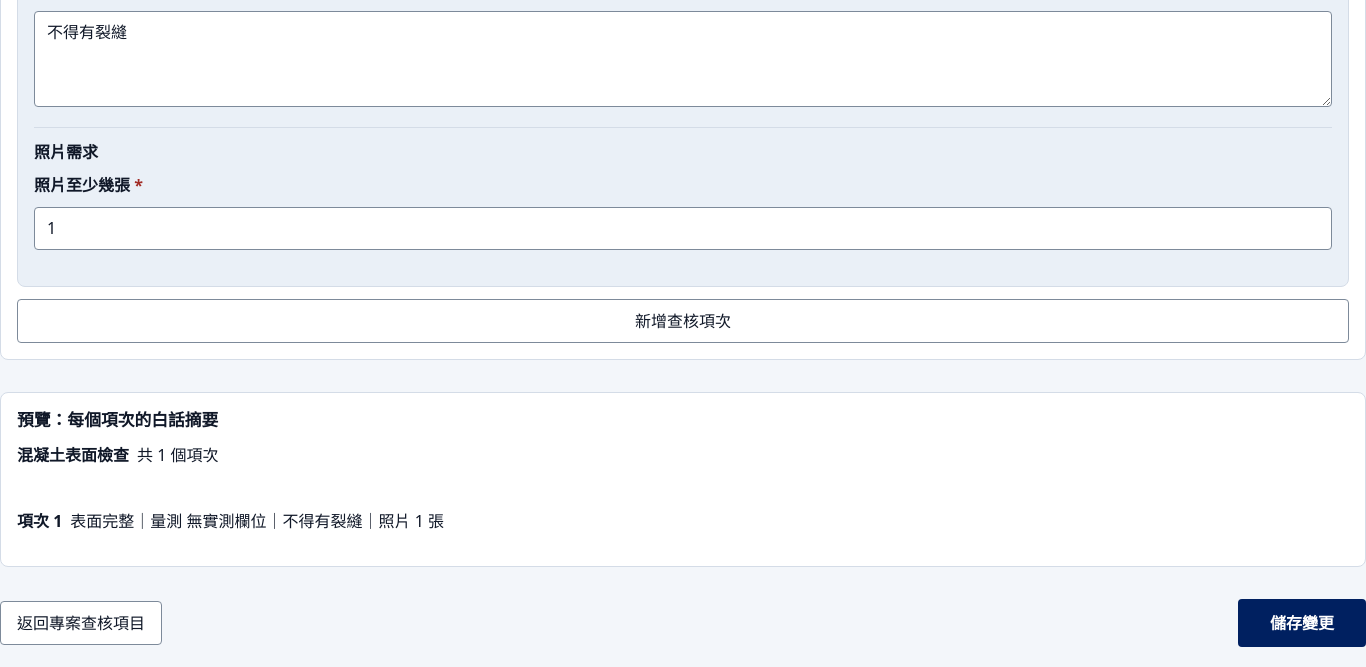
it: ProjectItemChangePage › explains kept old results when a Task already has one (#491)
(page scrolled)
Click the button "儲存變更" at (1302, 623), box [1238,599,1365,647]
(page scrolled)
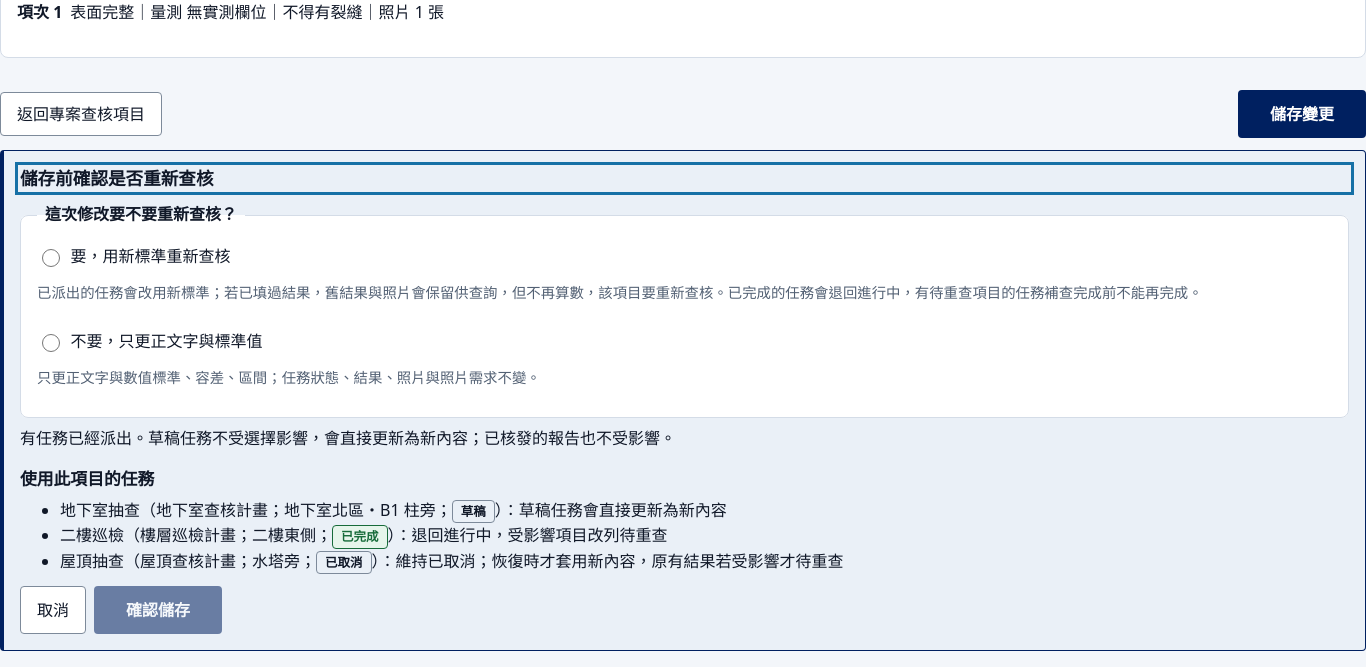
Click the radio button labelled "要，用新標準重新查核" at (51, 258), box [42,249,60,267]
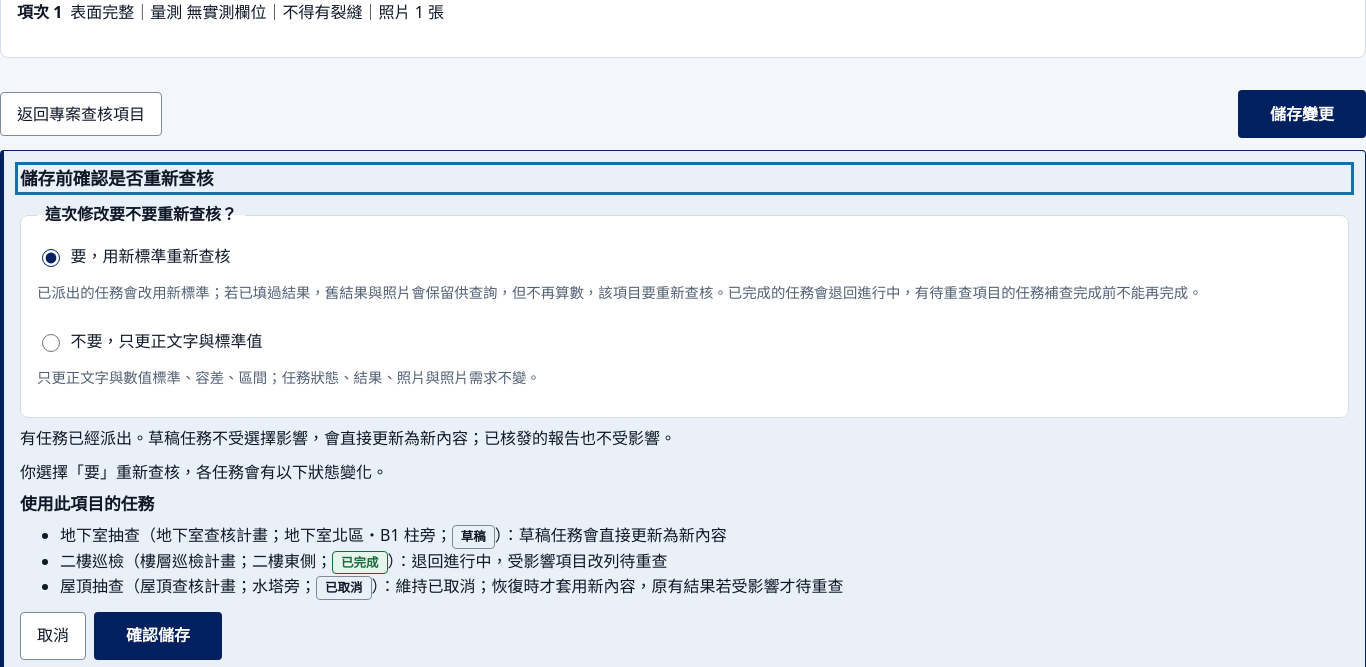
Click the button "確認儲存" at (158, 636), box [94,612,222,660]
(page scrolled)
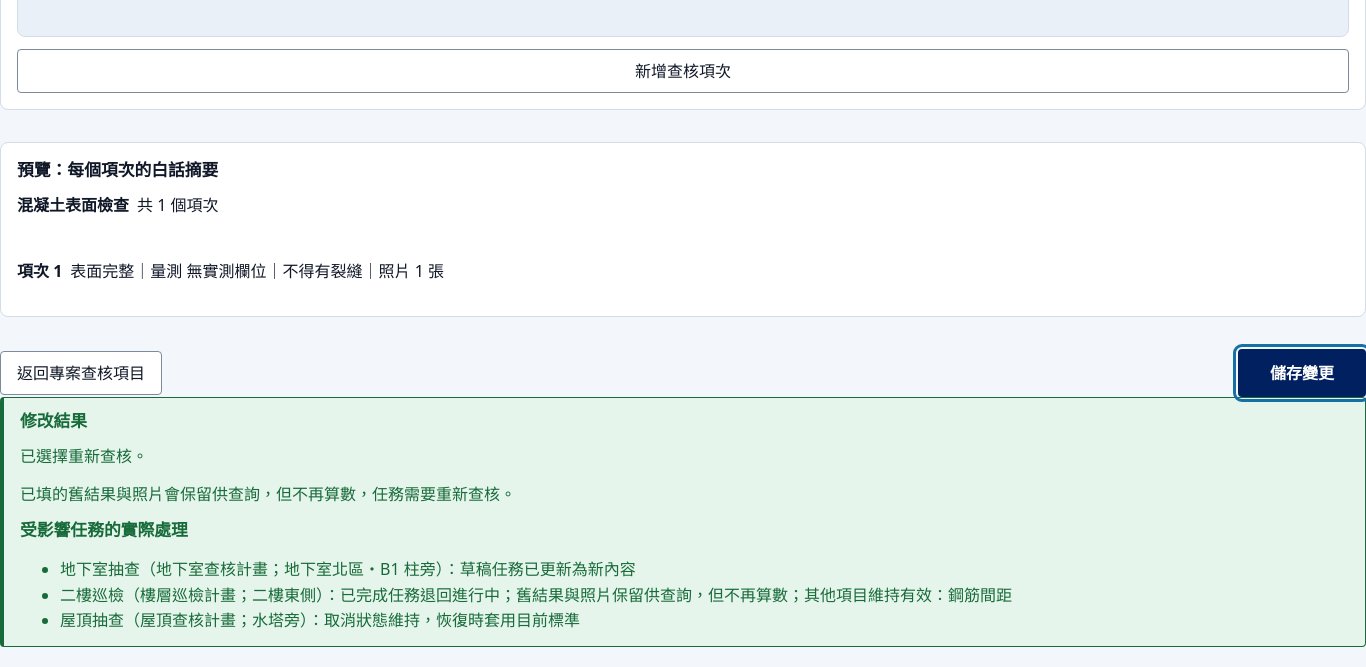
Expected: the text "已填的舊結果與照片會保留供查詢，但不再算數，任務需要重新查核。" is shown, [20,483,516,505]
Expected: the list item "二樓巡檢（樓層巡檢計畫；二樓東側）：已完成任務退回進行中；舊結果與照片保留供查詢，但不再算數；其他項目維持有效：鋼筋間距" is shown, [60,584,1012,606]
